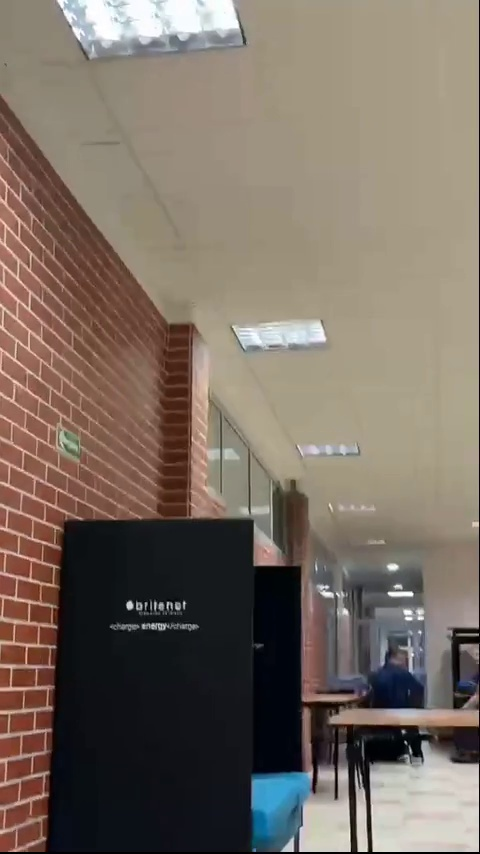no vest: (368, 644, 423, 710)
